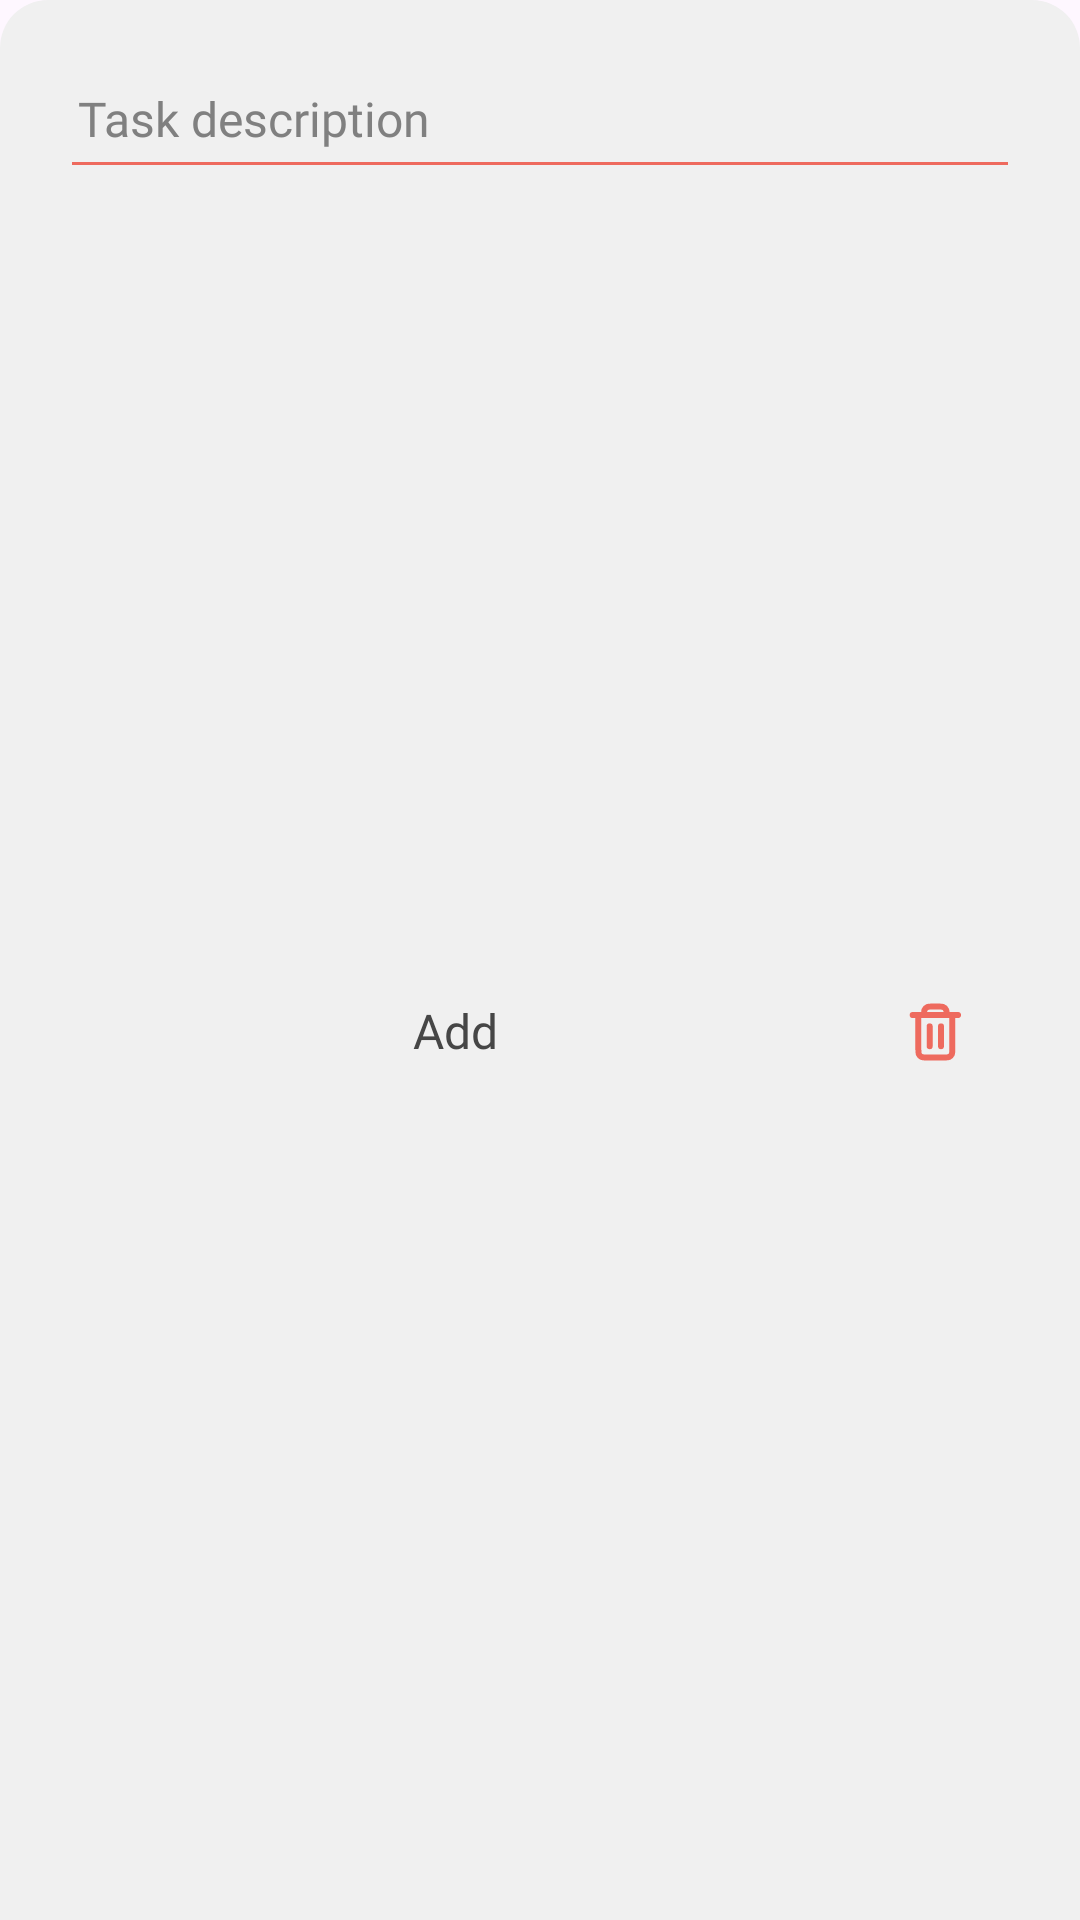

Named icons in this screenshot (1080px x 1920px) and their bounding boxes, bbox=(x1, y1, x2, y2):
Delete todo item: bbox=(909, 1003, 961, 1061)
